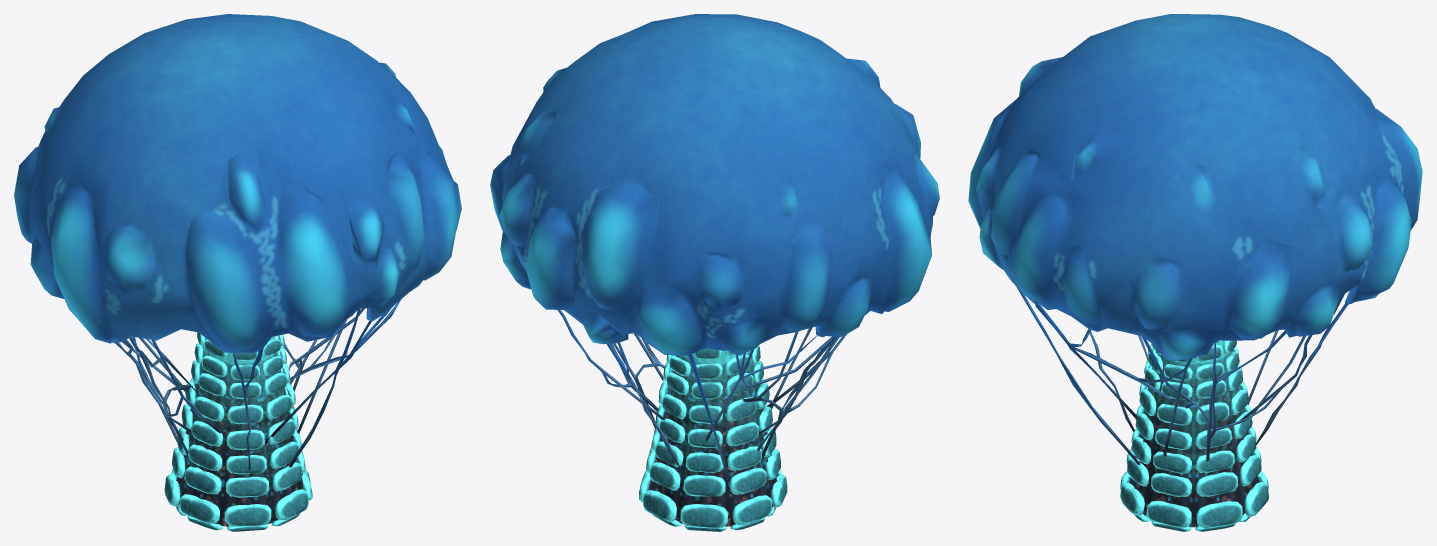
Rendered from CupolaPlantSmall.fbx.
3 renders of one model, left to right at view 1: azimuth 30°, elevation 25°; view 2: azimuth 150°, elevation 25°; view 3: azimuth 270°, elevation 25°, orthographic.
Visible parts, largest first — view 1: CupolaPlantSmall_LOD0; view 2: CupolaPlantSmall_LOD0; view 3: CupolaPlantSmall_LOD0.
Part boxes in pixels (box(x1,y1,x2,y2)): CupolaPlantSmall_LOD0: box(14, 14, 461, 531); CupolaPlantSmall_LOD0: box(490, 14, 939, 531); CupolaPlantSmall_LOD0: box(968, 14, 1422, 531).
Size of what is drawn, in the model's own units: 244 by 287 by 249.
